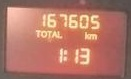0: (78, 13, 88, 28)
1: (73, 46, 78, 64), (40, 12, 46, 27), (57, 46, 62, 63)
3: (78, 46, 89, 65)
5: (89, 13, 100, 29)
6: (46, 12, 56, 27), (67, 13, 77, 28)
7: (58, 12, 67, 28)
X: (88, 32, 97, 40), (83, 30, 89, 40), (63, 48, 67, 62), (34, 28, 40, 37), (40, 29, 46, 37), (51, 29, 56, 38), (57, 29, 62, 38), (46, 29, 51, 37)
